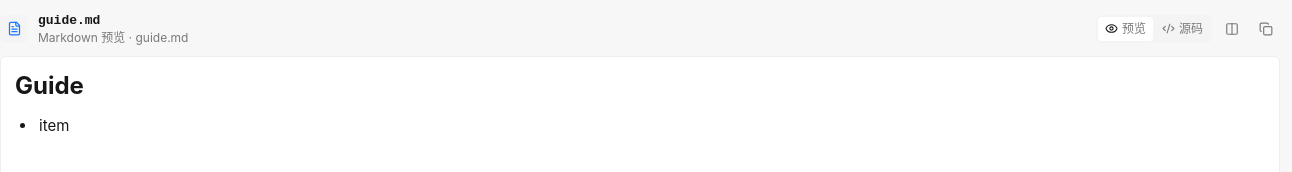
it: FilePreview › switches markdown preview back to source
Expected: the heading "Guide" is shown, [15,71,84,100]
Click the button "源码" at (1182, 29), box [1155,17,1210,41]
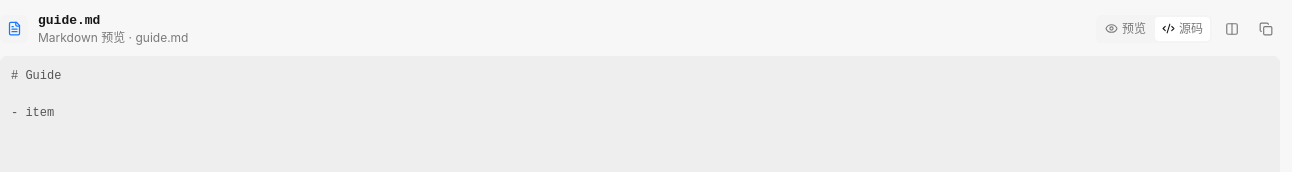
Expected: the element named "预览内容" shows "# Guide", [11,69,61,120]
